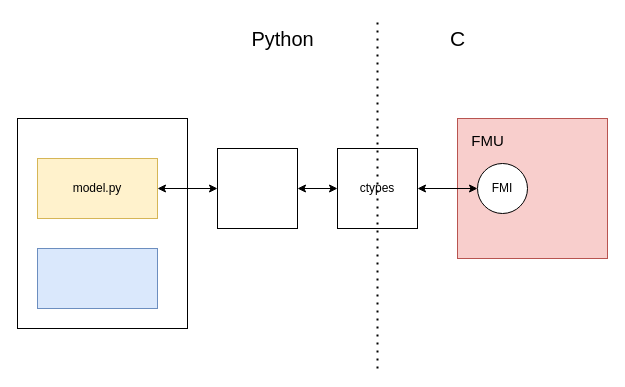
Some shapes in this 625 by 387 pixel diagram are drawn without their labels. The centre of each missing label's shape, as x and y in pixels:
"FMPy" goes at point (257, 188).
"simulator.py" goes at point (97, 278).
